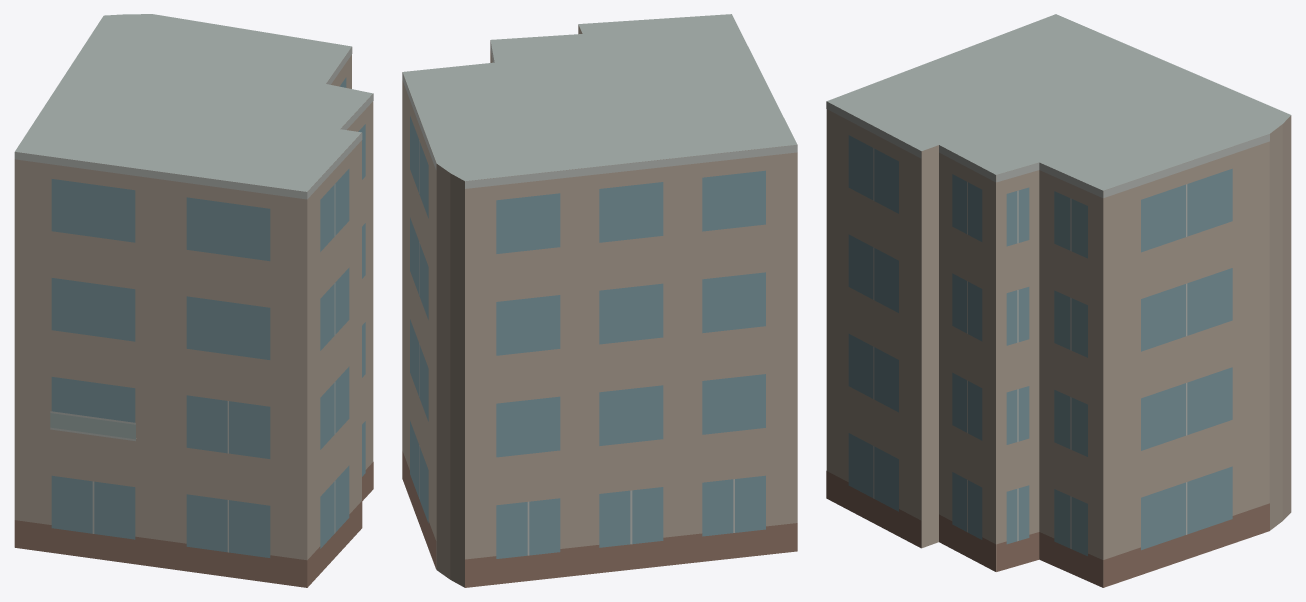
The model's file is survey-upis-32513331.glb.
3 views of the same model, side by side, from view 1: azimuth 30°, elevation 25°; view 2: azimuth 150°, elevation 25°; view 3: azimuth 270°, elevation 25° (orthographic). The views are drawn at different scales.
Visible parts, largest first — view 1: survey-upis-32513331.tmp; view 2: survey-upis-32513331.tmp; view 3: survey-upis-32513331.tmp.
Part boxes in pixels (<box>): survey-upis-32513331.tmp: <box>14,14,373,587</box>; survey-upis-32513331.tmp: <box>402,14,797,587</box>; survey-upis-32513331.tmp: <box>826,14,1291,587</box>.
Size of the model in its own units: 12.22 by 12.8 by 13.59.
